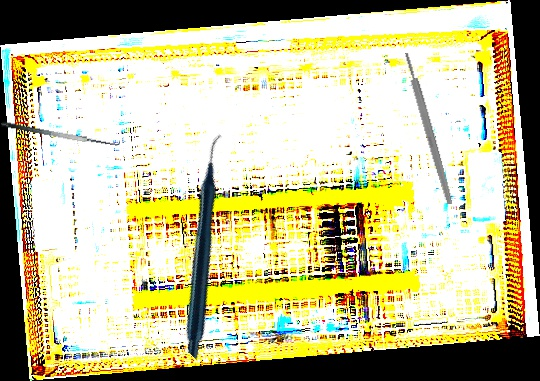Handpiece: (96, 133, 319, 360)
Scalpel Handle: (402, 51, 455, 206)
Spatula Surgical: (0, 110, 122, 153)
